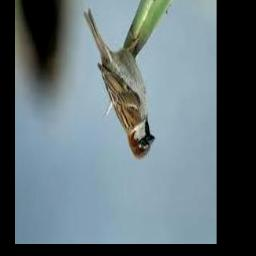Sparrow: (83, 10, 154, 161)
